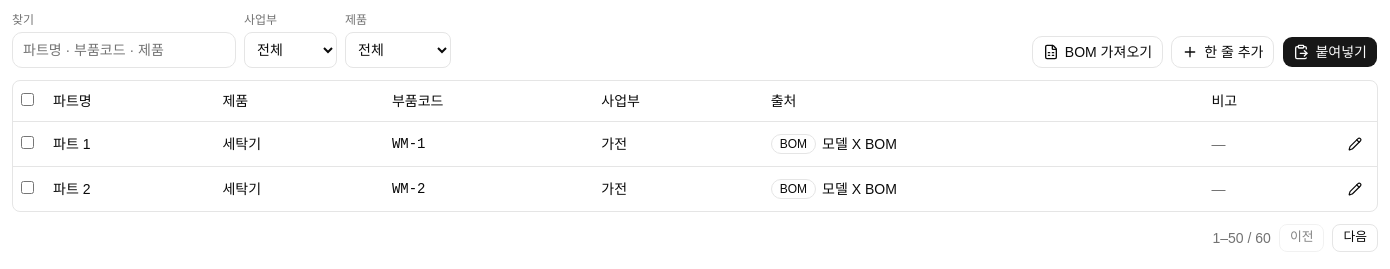
적용 부품 탭 › 쪽을 넘기면 다음 쪽을 묻는다
expect the text "1–50 / 60" is shown: met, box [1212,228,1271,248]
Click the button "다음" at x=1355, y=238, box [1332,224,1378,252]
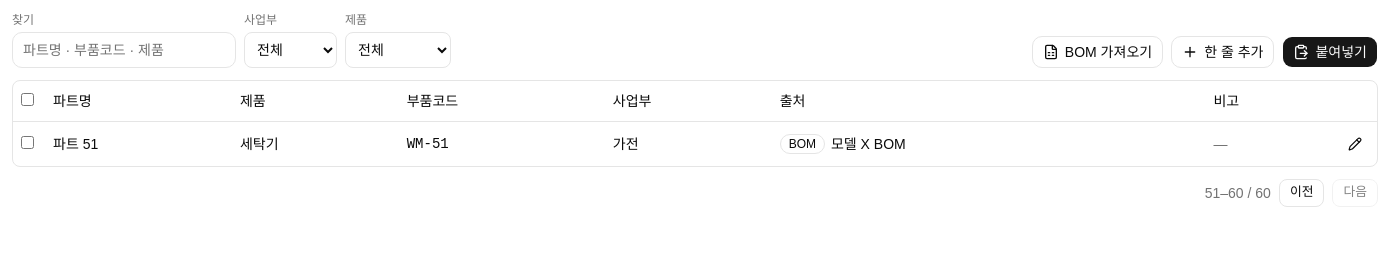
expect the text "WM-51" is shown: met, box [399,121,605,166]
